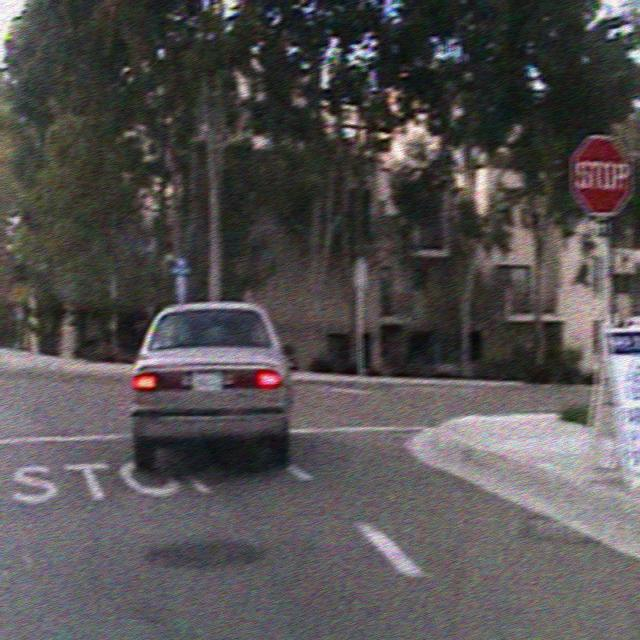stop: (569, 133, 634, 216)
